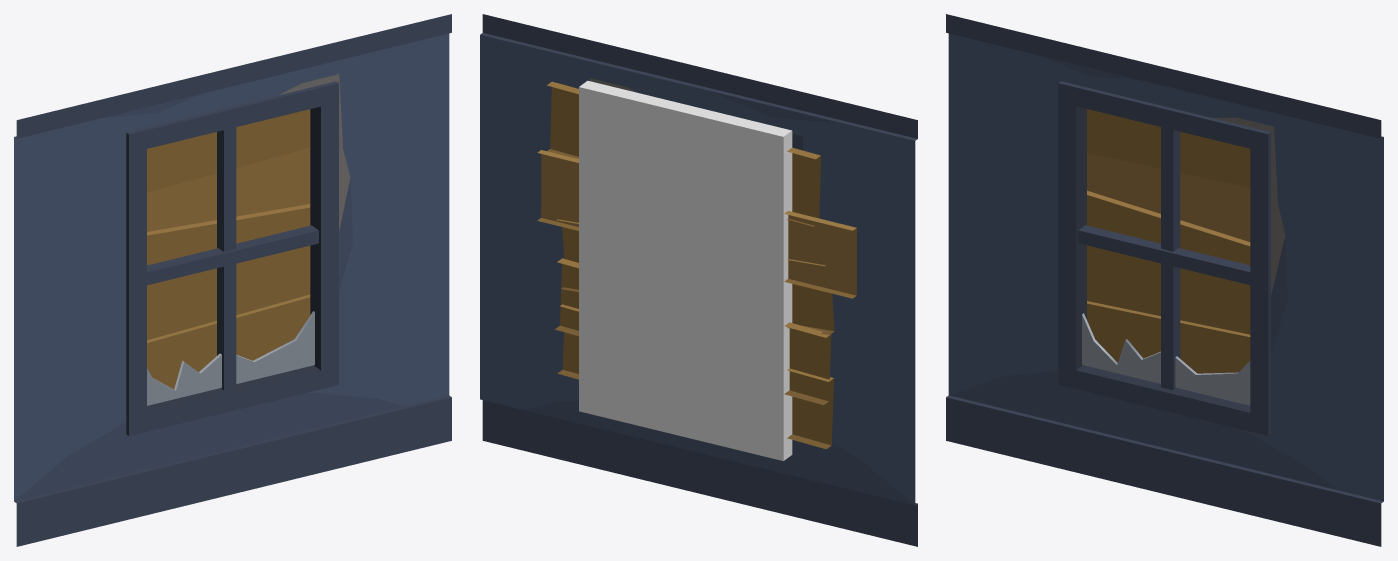
Rendered from AI_Env_Wall_Blue_Window_02.fbx.
The picture shows the model from 3 angles, left to right: view 1: azimuth 30°, elevation 25°; view 2: azimuth 150°, elevation 25°; view 3: azimuth 330°, elevation 25°; orthographic projection.
Parts seen in each view (by area): view 1: AI_Env_Wall_Blue_Window_02; view 2: AI_Env_Wall_Blue_Window_02; view 3: AI_Env_Wall_Blue_Window_02.
Boxes of the visible parts, box(x1,y1,x2,y2) form: AI_Env_Wall_Blue_Window_02: box(14, 14, 451, 546); AI_Env_Wall_Blue_Window_02: box(480, 14, 917, 546); AI_Env_Wall_Blue_Window_02: box(946, 14, 1383, 546).
Bounding box in the file's own units: 5 × 4.69 × 0.3888.
